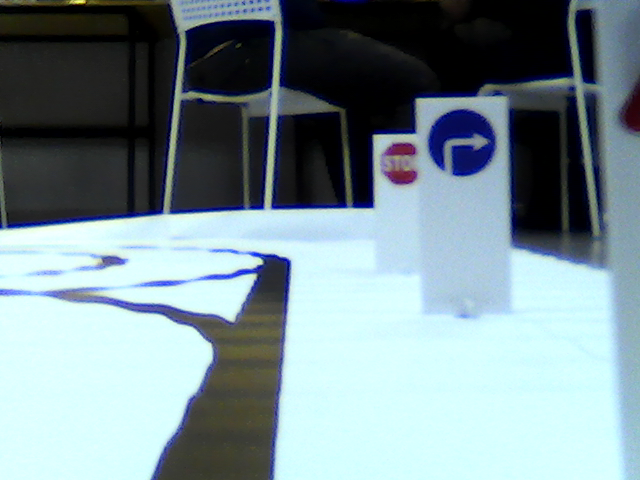Right: (427, 110, 496, 175)
Stop: (380, 143, 419, 184)
